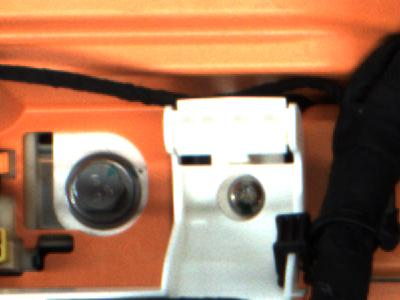nut_b: (61, 150, 149, 229)
